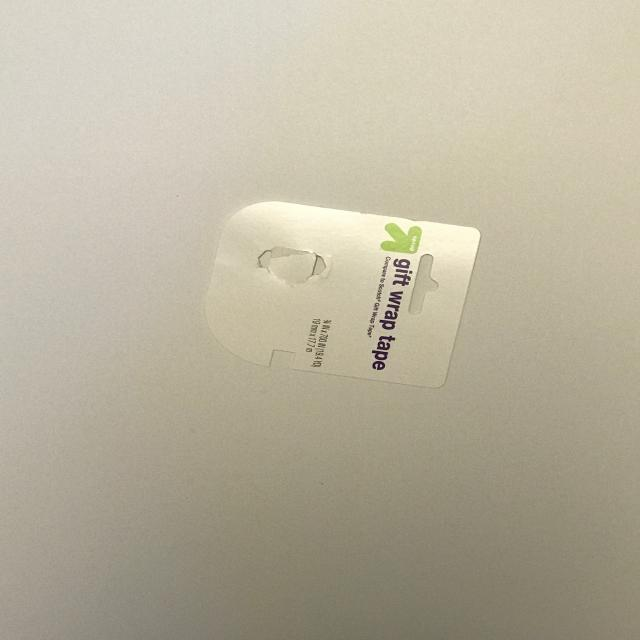Paper: (174, 181, 498, 435)
